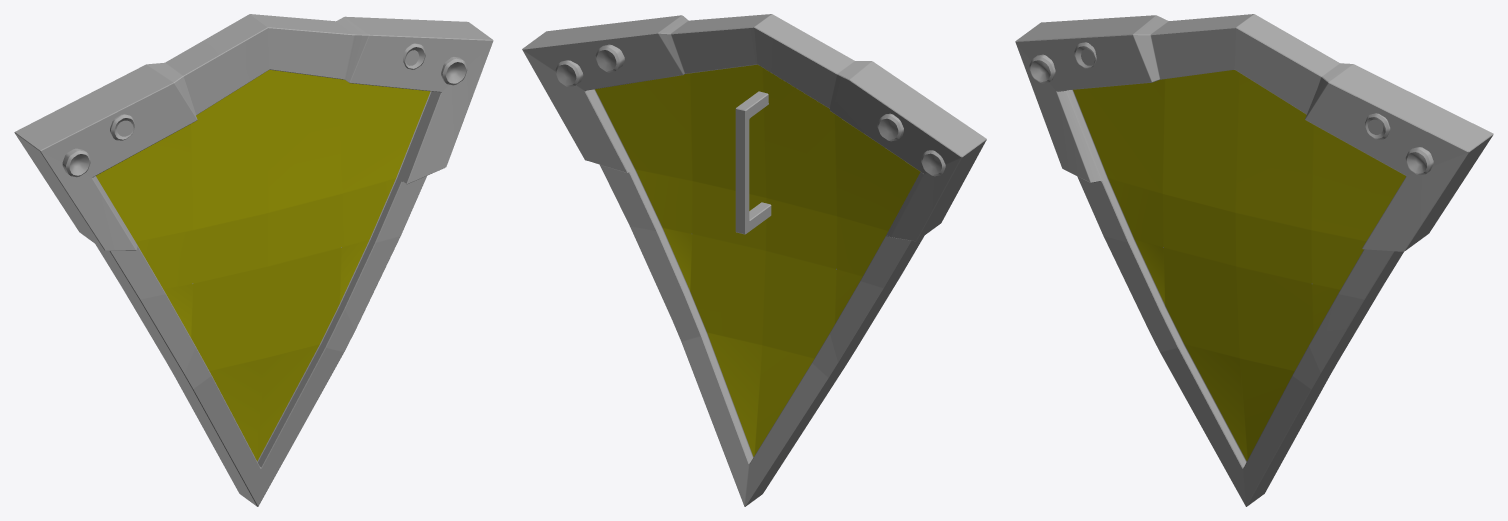
The model's file is Shield.fbx.
3 views of the same model, side by side, from view 1: azimuth 30°, elevation 25°; view 2: azimuth 150°, elevation 25°; view 3: azimuth 330°, elevation 25° (orthographic). The views are drawn at different scales.
Parts seen in each view (by area): view 1: group46; view 2: group46; view 3: group46.
Part boxes in pixels (box(x1,y1,x2,y2)): group46: box(14, 14, 493, 506); group46: box(522, 14, 986, 506); group46: box(1015, 14, 1493, 506).
Size of the model in its own units: 182 by 187 by 27.62.
